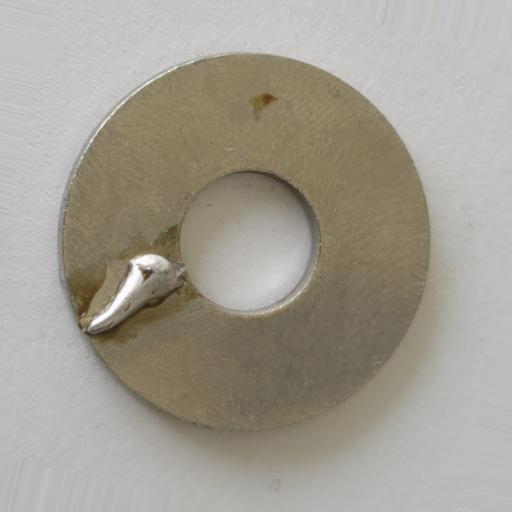excess_material: (86, 253, 188, 337)
